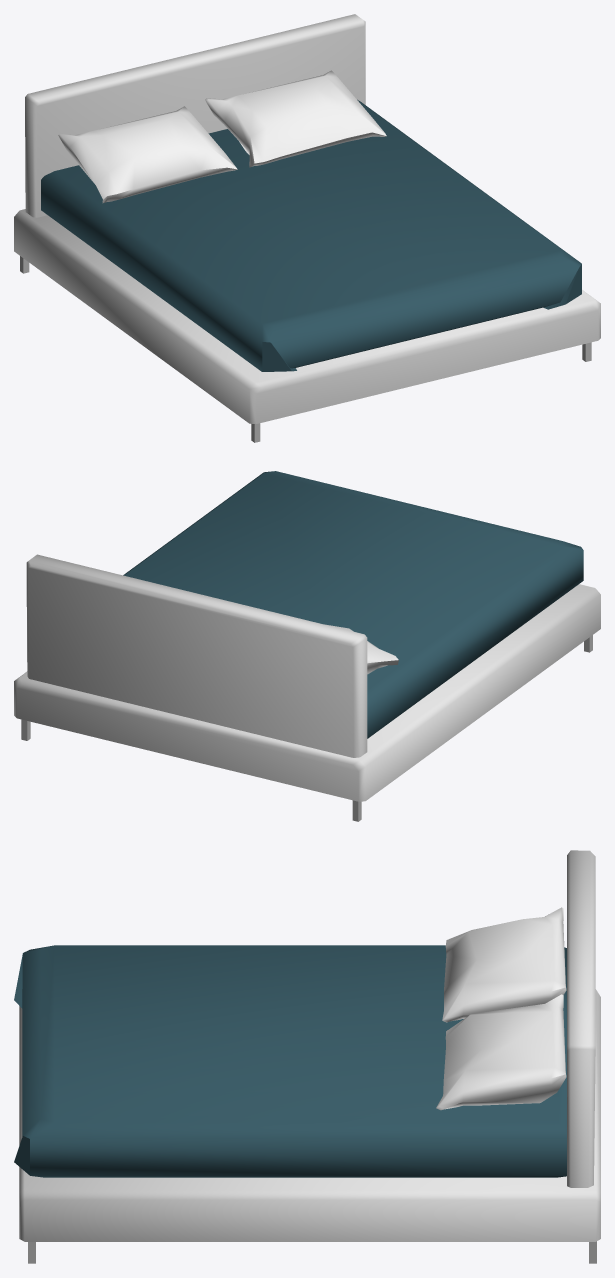
The model's file is bed_016.glb.
The picture shows the model from 3 angles, top to bottom: view 1: azimuth 30°, elevation 25°; view 2: azimuth 150°, elevation 25°; view 3: azimuth 270°, elevation 25°; orthographic projection. The views are drawn at different scales.
Parts seen in each view (by area): view 1: bed_016; view 2: bed_016; view 3: bed_016.
Boxes of the visible parts, <box> form: bed_016: <box>14,14,600,442</box>; bed_016: <box>14,471,600,821</box>; bed_016: <box>14,850,600,1263</box>.
Bounding box in the file's own units: 1.5 × 0.7301 × 1.79.
Materials: 1 (1 with a texture image).
